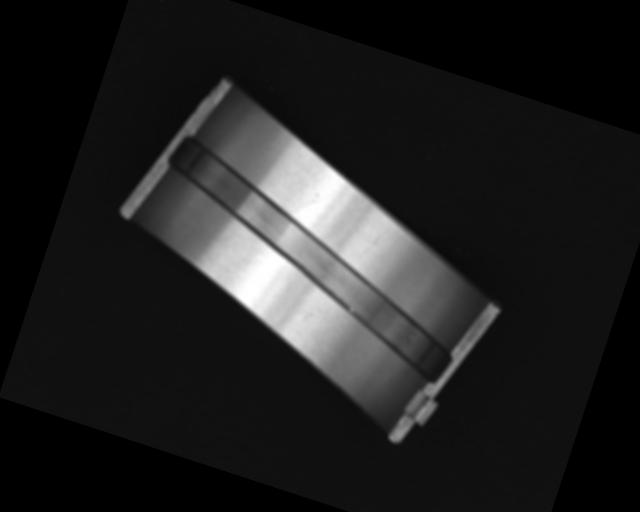gap: (127, 133, 492, 385)
nick: (363, 223, 390, 259)
